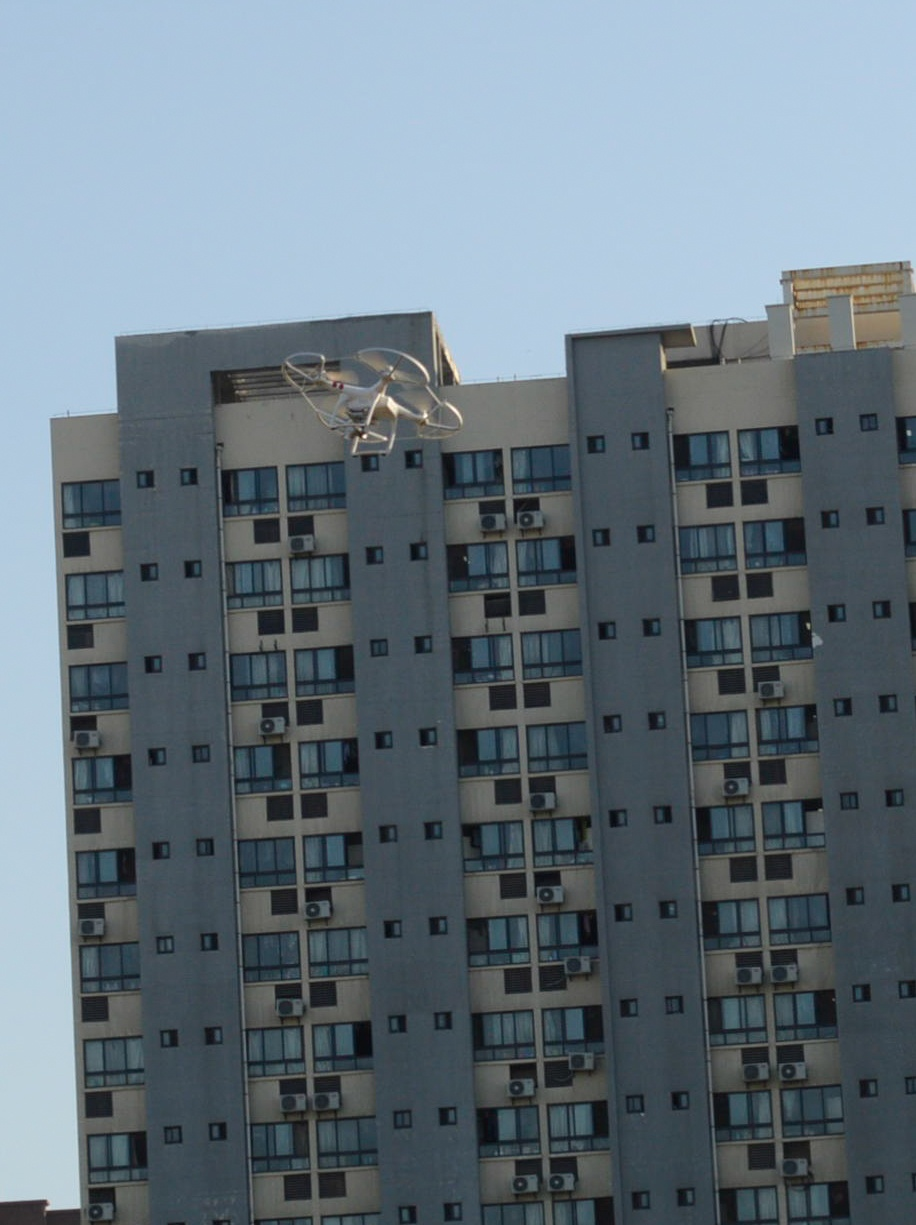DJI: (277, 348, 470, 461)
